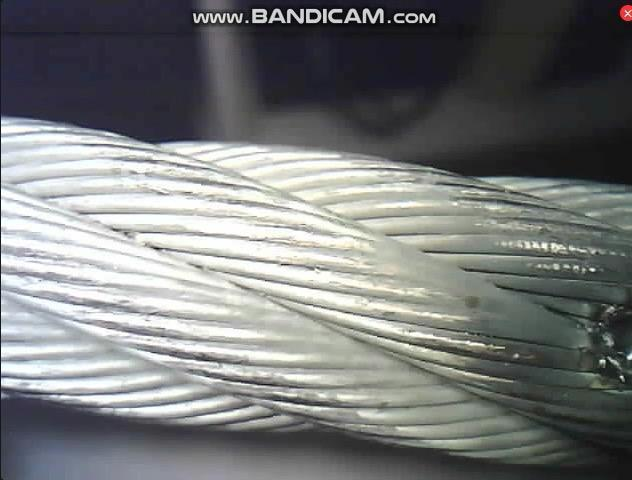thunderbolt: (552, 266, 632, 405)
